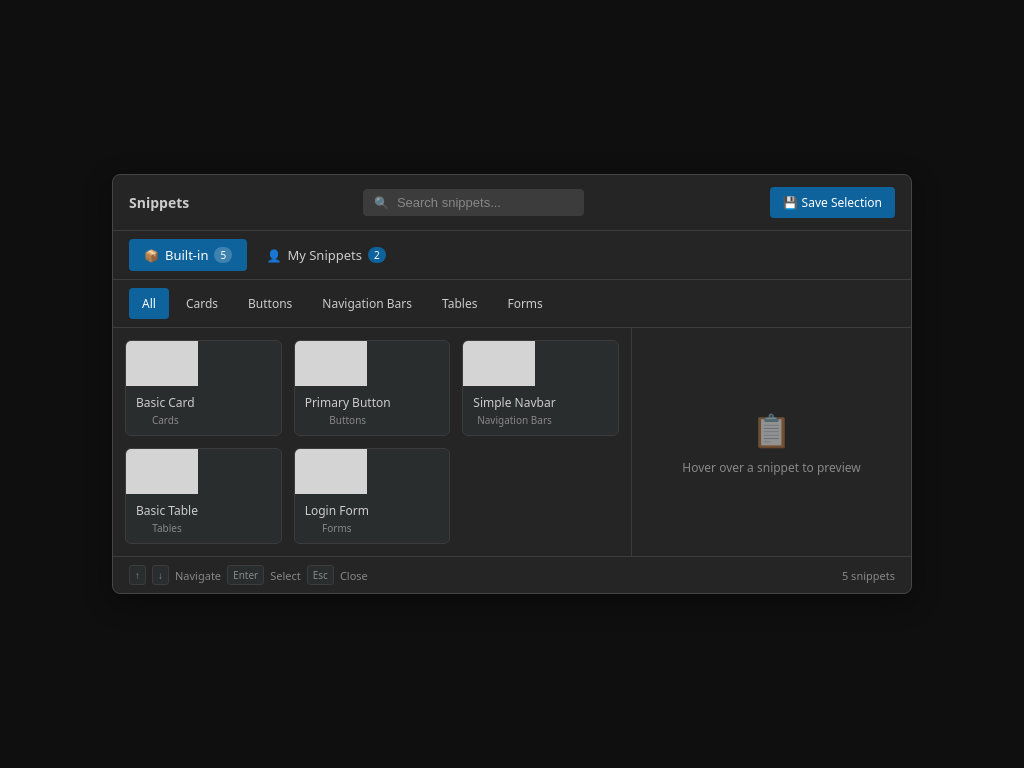
Test case: SnippetSelector.vue › Delete Snippet › should show context menu on right-click in My Snippets tab
// Go to My Snippets
Click the tab with class "tab-btn" showing "👤 My Snippets 2" at (326, 255), box [251, 239, 401, 271]
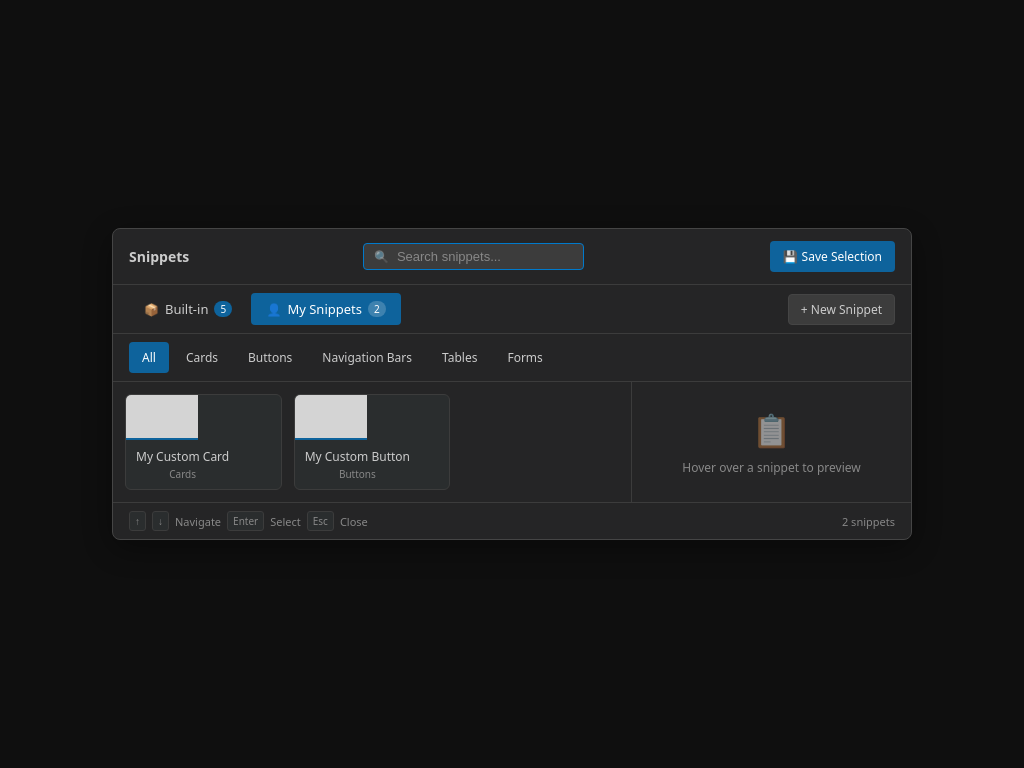
// Right-click on a snippet
Right-click the option with class "snippet-item" showing "My Custom Card Cards" at (203, 442), box [125, 394, 282, 490]
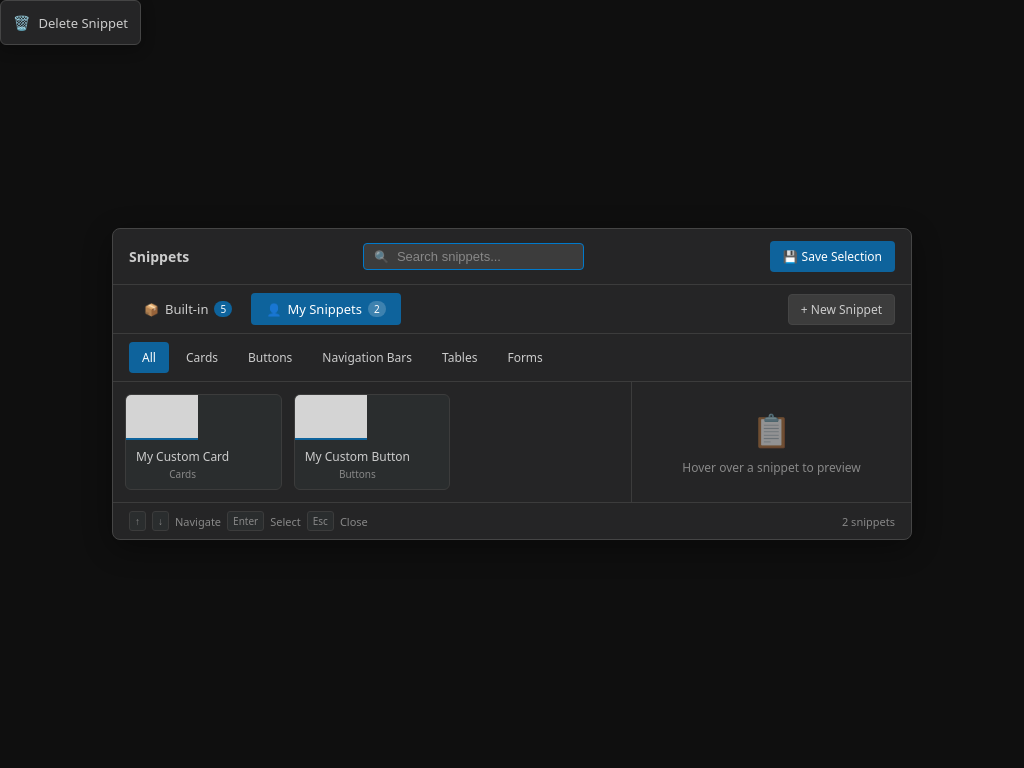
Expected: the element with class "context-menu" is shown, [0, 0, 141, 45]
Expected: the button with class "delete" shows "Delete Snippet", [1, 5, 140, 40]
